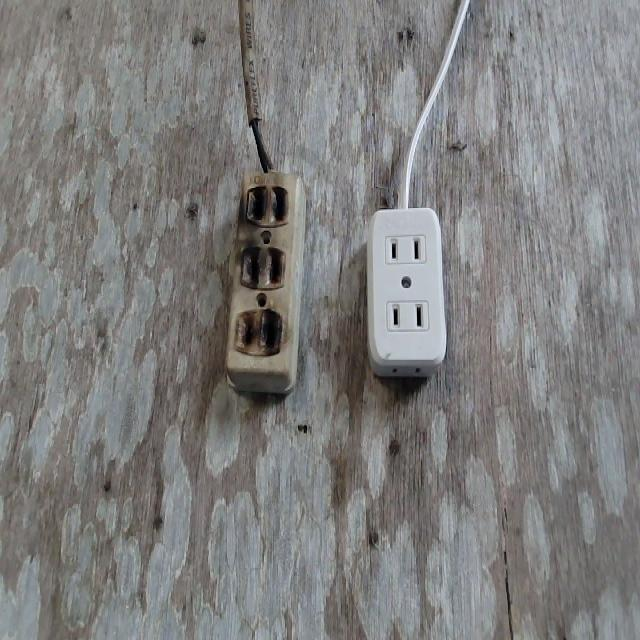-: (233, 185, 294, 356)
